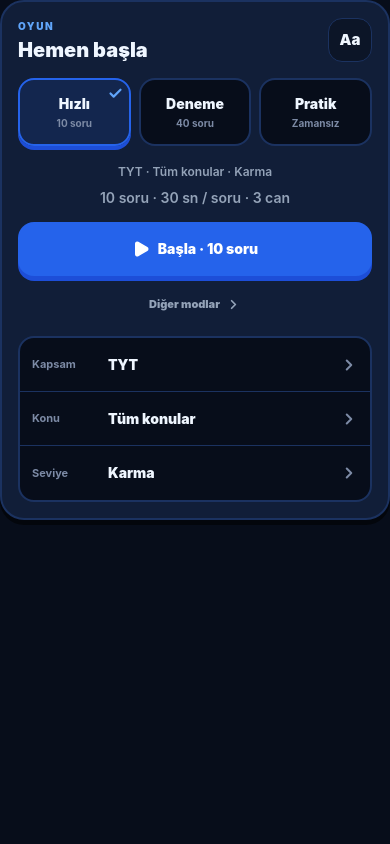
Scenario: MobileLobbyFlow › başlatmadan önce seçili modun soru, süre ve can kurallarını gösterir
Expected: the message named "Tur kuralları" reads "10 soru · 30 sn / soru · 3 can", left=100, top=189, right=290, bottom=206
Click the button with aria-label "Pratik: Zamansız" at (316,112), box left=259, top=78, right=372, bottom=146
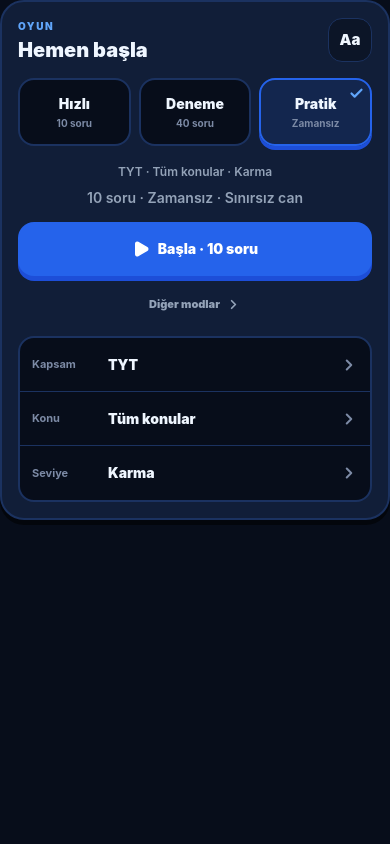
Result: the message named "Tur kuralları" reads "10 soru · Zamansız · Sınırsız can" at left=87, top=189, right=303, bottom=206
Click the button with aria-label "Deneme: 40 soru" at (195,112), box left=139, top=78, right=251, bottom=146
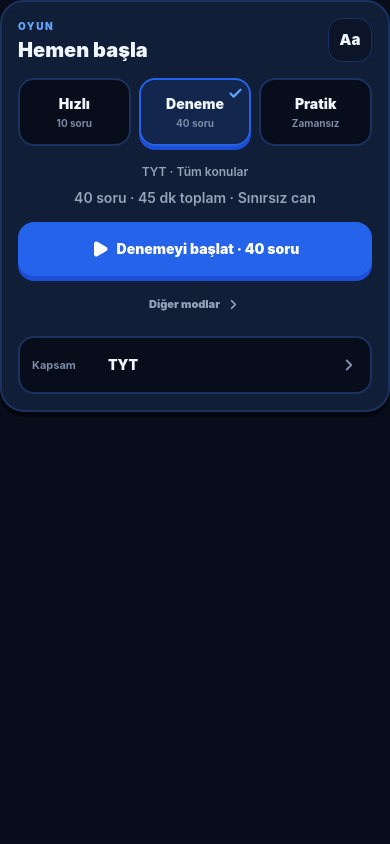
Result: the message named "Tur kuralları" reads "40 soru · 45 dk toplam · Sınırsız can" at left=74, top=189, right=316, bottom=206
Click the button "Diğer modlar" at (195,304), box left=18, top=284, right=372, bottom=324
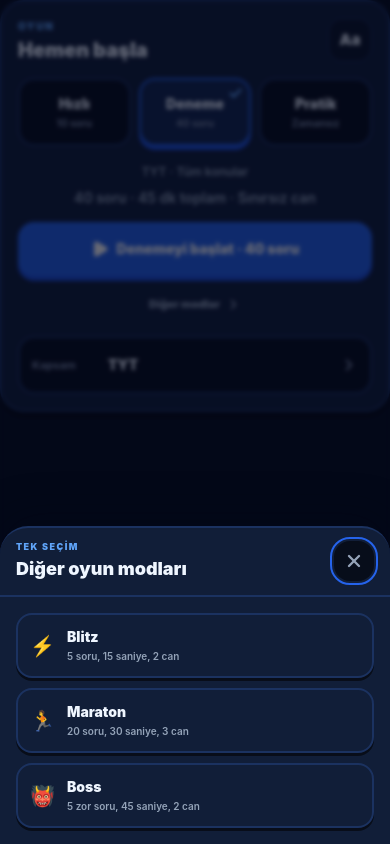
Click the button "⚡ Blitz 5 soru, 15 saniye, 2 can" at (83,636), box left=16, top=613, right=374, bottom=678
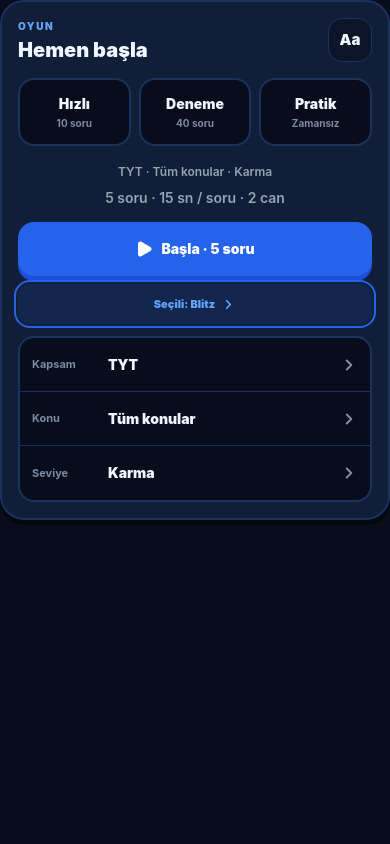
Result: the message named "Tur kuralları" reads "5 soru · 15 sn / soru · 2 can" at left=105, top=189, right=285, bottom=206
